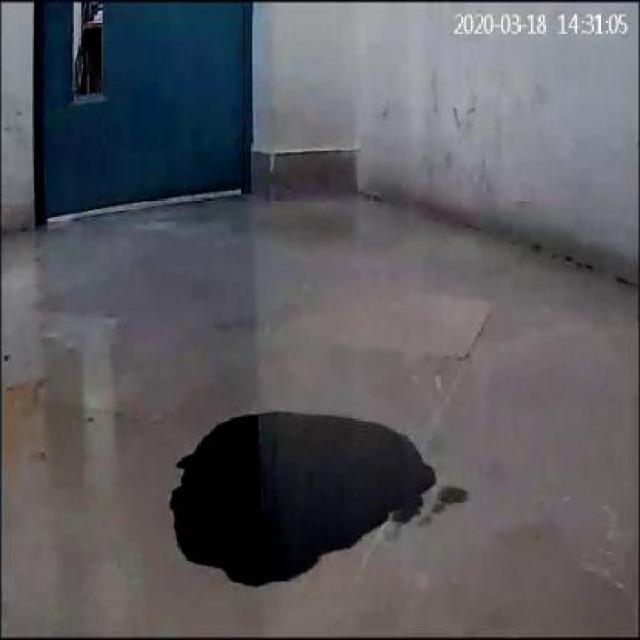spill: (170, 410, 438, 586)
